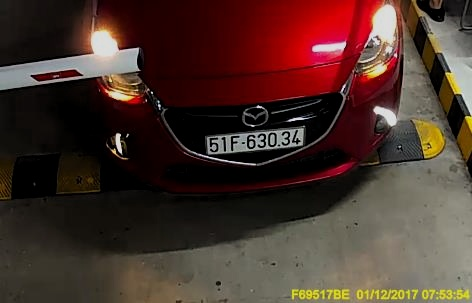plate: (201, 128, 304, 156)
